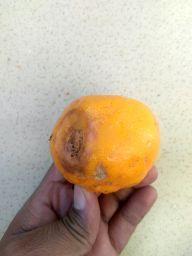Unripe: (48, 97, 159, 195)
